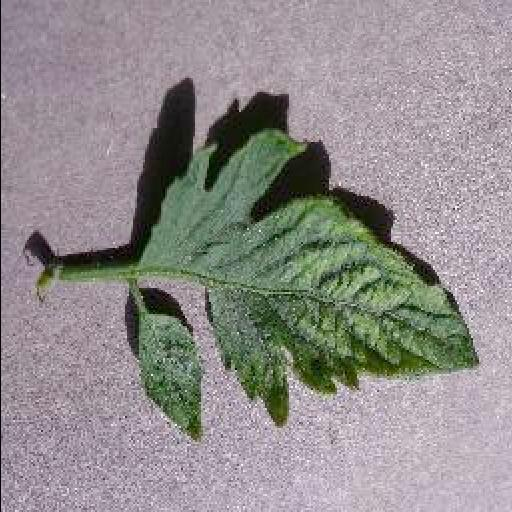Mosaic Virus: (128, 133, 478, 443)
